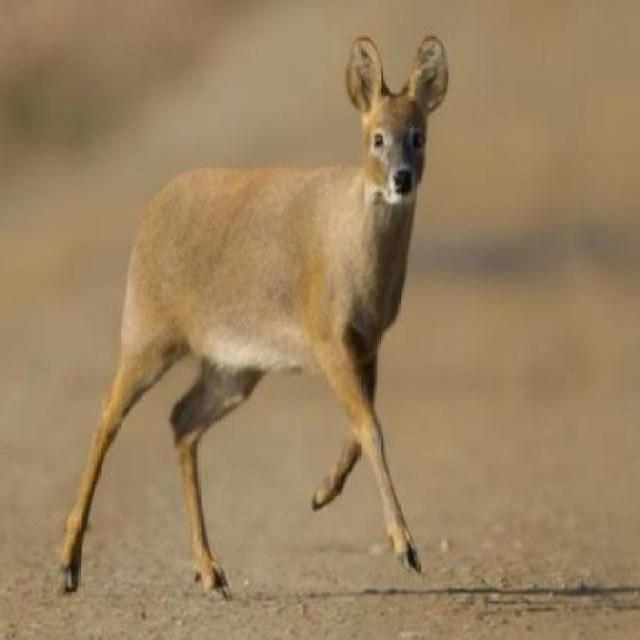deer: (59, 4, 452, 607)
